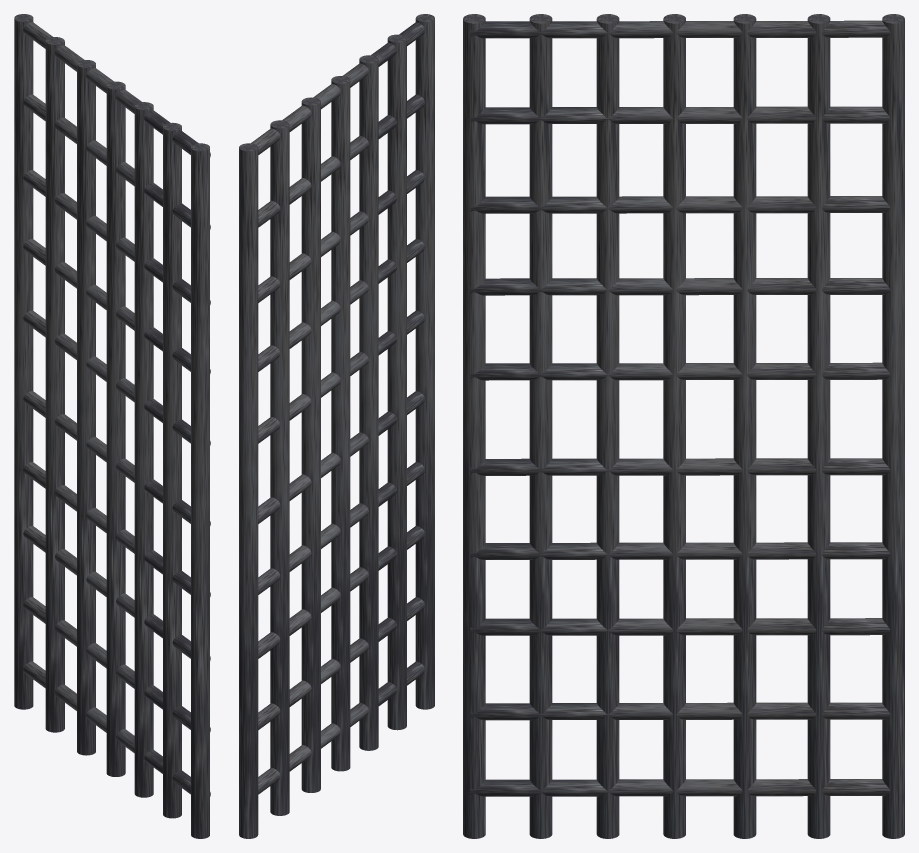
File: ironbarsdoor1.glb
The picture shows the model from 3 angles, left to right: view 1: azimuth 30°, elevation 25°; view 2: azimuth 150°, elevation 25°; view 3: azimuth 270°, elevation 25°; orthographic projection. The views are drawn at different scales.
Parts seen in each view (by area): view 1: Ironbars-col; view 2: Ironbars-col; view 3: Ironbars-col.
Boxes of the visible parts, left/top/right/bottom form: Ironbars-col: left=14, top=14, right=210, bottom=838; Ironbars-col: left=239, top=14, right=434, bottom=838; Ironbars-col: left=463, top=14, right=904, bottom=838.
Bounding box in the file's own units: 0.0525 × 2.05 × 1.01.
1 material, 1 textured.
